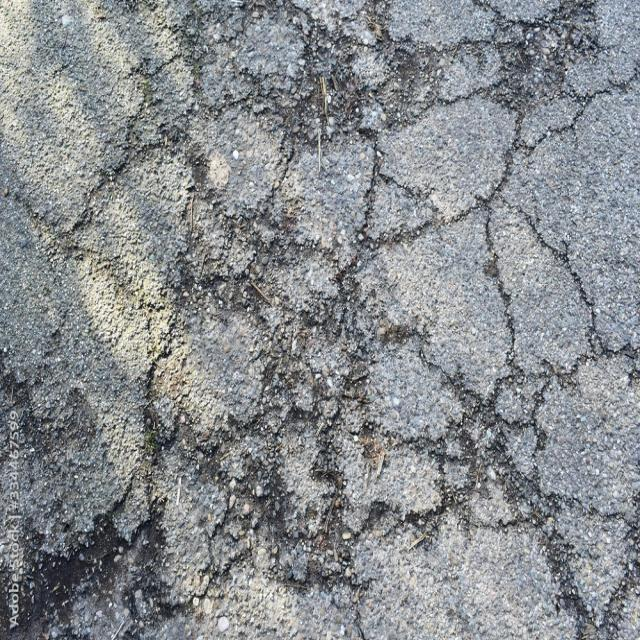Drain Hole: (135, 11, 600, 634)
